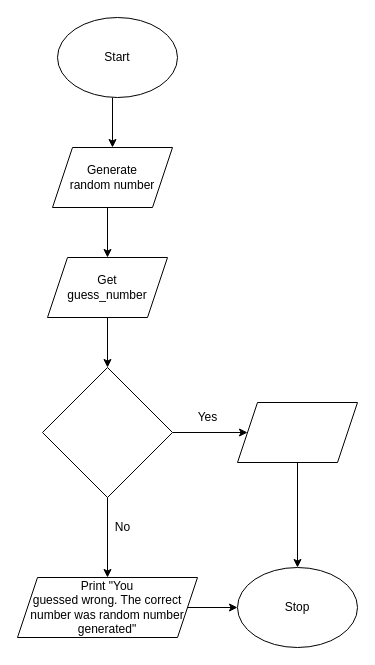
Some shapes in this 375 by 665 pixel diagram are drawn without their labels. The shapes that lost their labels are listed below. From the top down, each one's centre as x and y in pixels, then its label:
pixel 107 432: If guess_number = random number generated
pixel 297 432: Print "You guessed correct"
